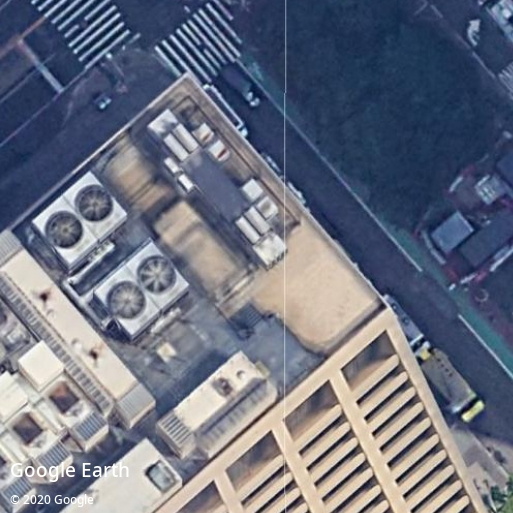Vent: (47, 214, 84, 249), (139, 258, 176, 293), (111, 284, 146, 319), (78, 188, 114, 222)
